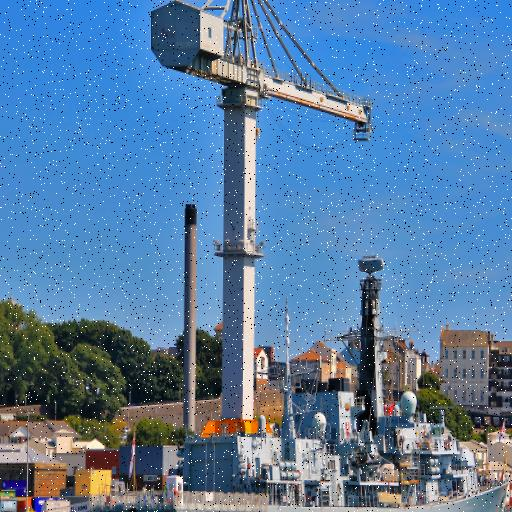Fragata: (90, 242, 511, 512)
